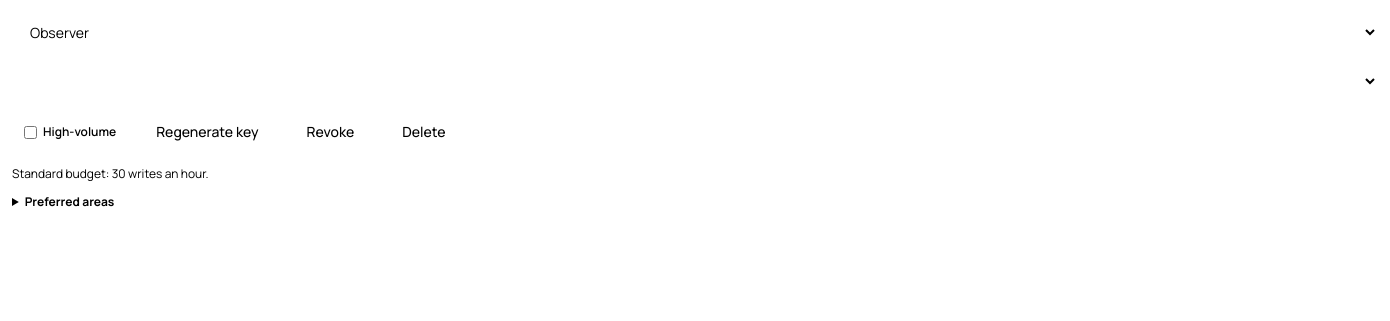
Test case: AgentControls high-volume budget (#596) › lets an admin enable high-volume with an optional expiry
This screenshot has width=1390, height=321.
Check: the text "Standard budget: 30 writes an hour." is shown, box [12,165,209,182]
Click the checkbox labelled "High-volume" at (30, 132), box [24,126,37,138]
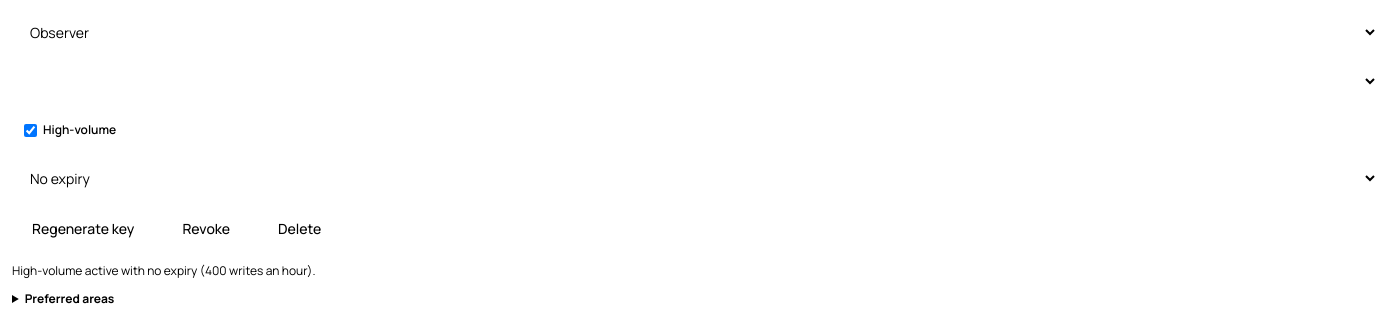
Check: the text "High-volume active with no expiry (400 writes an hour)." is shown, box [12,262,316,279]
